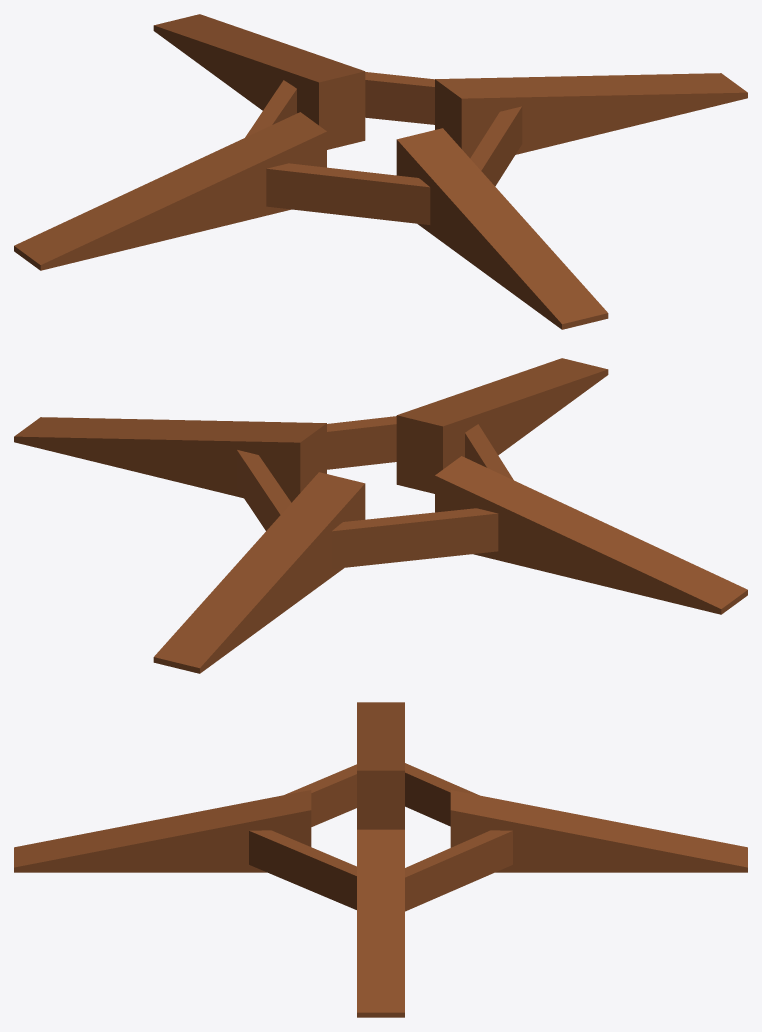
The model's file is Prefab_Xmas_Tree_Stand_B.glb.
The picture shows the model from 3 angles, top to bottom: view 1: azimuth 30°, elevation 25°; view 2: azimuth 150°, elevation 25°; view 3: azimuth 270°, elevation 25°; orthographic projection. The views are drawn at different scales.
Visible parts, largest first — view 1: TreeStand_B; view 2: TreeStand_B; view 3: TreeStand_B.
Part boxes in pixels (x1,y1,x2,y2): TreeStand_B: [14, 14, 747, 329]; TreeStand_B: [14, 358, 747, 673]; TreeStand_B: [14, 702, 747, 1017].
Bounding box in the file's own units: 1.6 × 0.1502 × 1.6.
